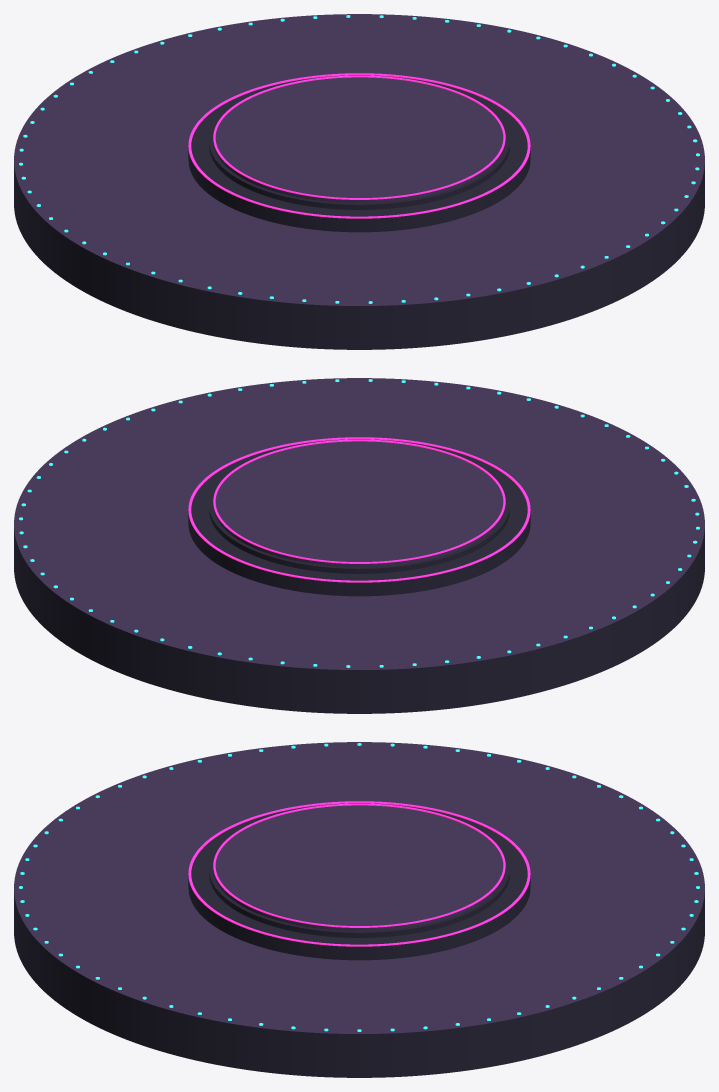
The model's file is ring-remake-R01A-platform-fit.glb.
The picture shows the model from 3 angles, top to bottom: view 1: azimuth 30°, elevation 25°; view 2: azimuth 150°, elevation 25°; view 3: azimuth 270°, elevation 25°; orthographic projection.
Visible parts, largest first — view 1: P_OUT_single_closed_body, P_IN_performance_disc, P_IN_lower_base, P_IN_text_waist_placeholder, P_BASE_edge_lip, P_TOP_edge_lip; view 2: P_OUT_single_closed_body, P_IN_performance_disc, P_IN_lower_base, P_IN_text_waist_placeholder, P_BASE_edge_lip, P_TOP_edge_lip; view 3: P_OUT_single_closed_body, P_IN_performance_disc, P_IN_lower_base, P_IN_text_waist_placeholder, P_BASE_edge_lip, P_TOP_edge_lip.
Boxes of the visible parts, x1,y1,x2,y2 form: P_OUT_single_closed_body: [14, 14, 704, 349]; P_IN_performance_disc: [213, 77, 505, 202]; P_IN_lower_base: [188, 75, 530, 232]; P_IN_text_waist_placeholder: [209, 113, 509, 209]; P_BASE_edge_lip: [188, 73, 530, 218]; P_TOP_edge_lip: [213, 75, 505, 199]; P_OUT_single_closed_body: [14, 378, 704, 713]; P_IN_performance_disc: [213, 441, 505, 566]; P_IN_lower_base: [188, 439, 530, 596]; P_IN_text_waist_placeholder: [209, 477, 509, 573]; P_BASE_edge_lip: [188, 437, 530, 582]; P_TOP_edge_lip: [213, 439, 505, 563]; P_OUT_single_closed_body: [14, 742, 704, 1077]; P_IN_performance_disc: [213, 805, 505, 930]; P_IN_lower_base: [188, 803, 530, 960]; P_IN_text_waist_placeholder: [209, 841, 509, 937]; P_BASE_edge_lip: [188, 801, 530, 946]; P_TOP_edge_lip: [213, 803, 505, 927].
Bounding box in the file's own units: 20 × 2.13 × 20.
